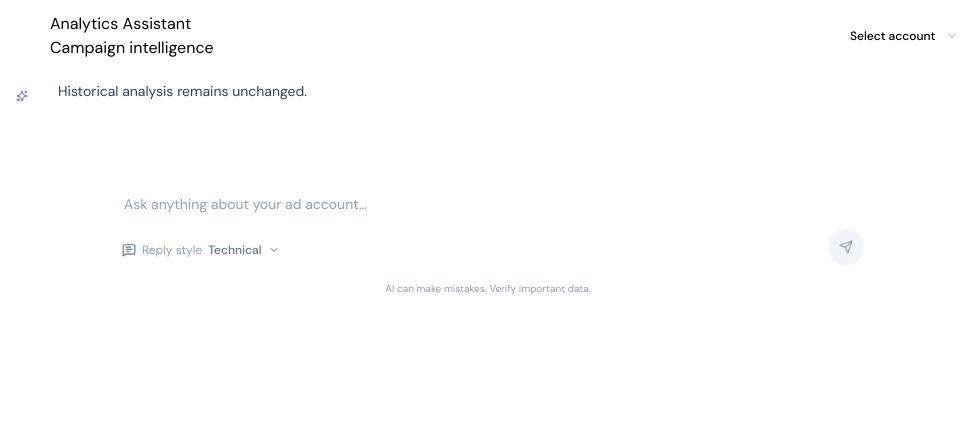
Test: chat presentation preference integration › updates from an SSE event while preserving historical messages and recommendations
Check: the text "Historical analysis remains unchanged." is shown, box 58,82 -> 307,100
Check: the button with aria-label "Explanation style" is enabled, box 112,235 -> 290,265
Type "Explain this simply" into the text box at [488, 204], box 112,184 -> 864,225
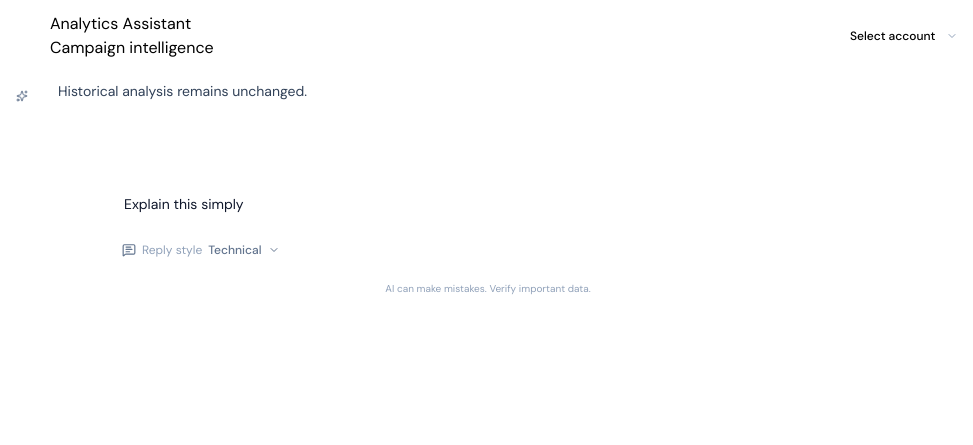
Press Enter in the text box, box 112,184 -> 864,225
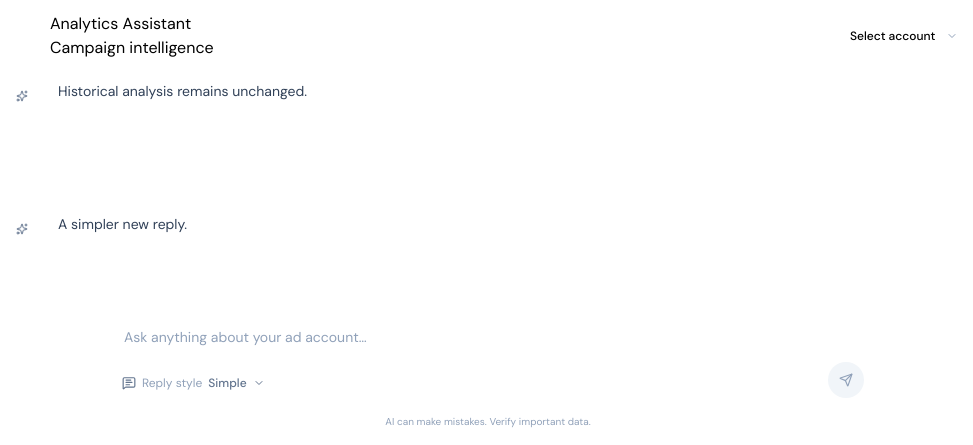
Check: the text "Historical analysis remains unchanged." is shown, box 58,82 -> 307,100
Check: the text "A simpler new reply." is shown, box 58,215 -> 187,233
Check: the button with aria-label "Explanation style" shows "Simple", box 112,368 -> 275,398
